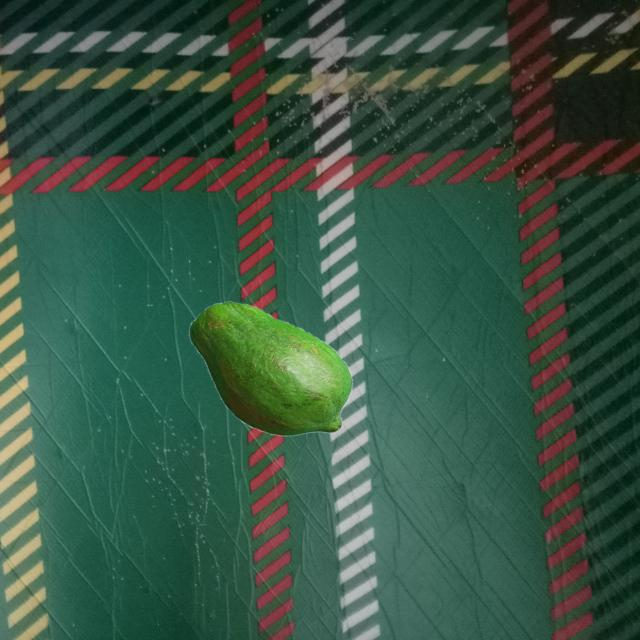Pepaya unrippen: (177, 296, 363, 439)
